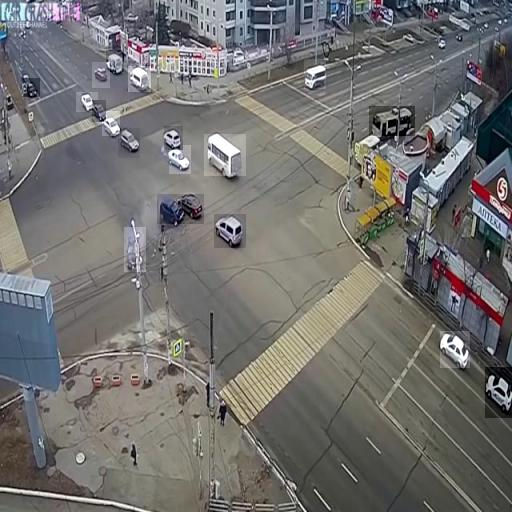小汽车: (204, 134, 246, 176), (369, 106, 415, 136), (485, 367, 512, 418), (440, 331, 470, 368), (214, 214, 246, 248), (124, 227, 146, 272), (304, 59, 326, 89), (118, 128, 140, 158), (169, 145, 191, 174), (128, 66, 151, 92), (92, 62, 110, 88), (164, 126, 183, 150), (102, 111, 120, 136), (76, 92, 98, 112), (106, 50, 124, 72), (23, 78, 40, 97), (92, 100, 106, 122)
小汽车撞小汽车: (157, 194, 204, 224)
